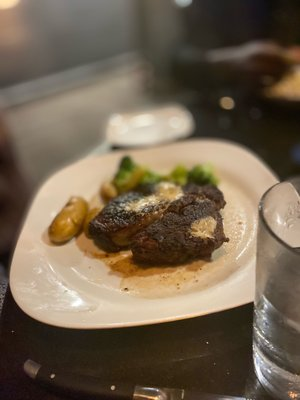pizza: (251, 177, 300, 399)
